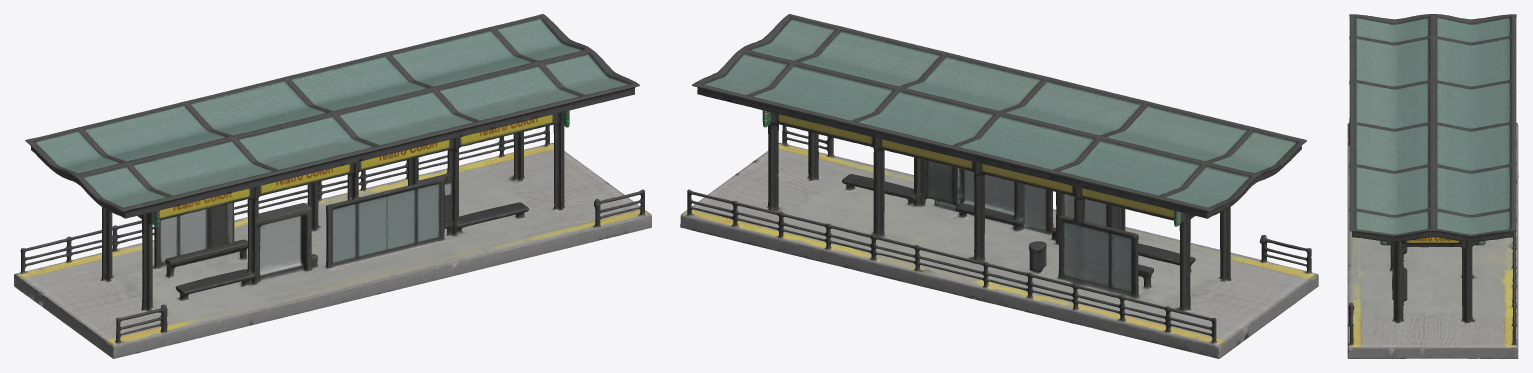
File: metrobus.glb
3 renders of one model, left to right at view 1: azimuth 30°, elevation 25°; view 2: azimuth 150°, elevation 25°; view 3: azimuth 270°, elevation 25°, orthographic. The views are drawn at different scales.
Bounding box in the file's own units: 1.9 × 0.4889 × 0.609.
1 material, 1 textured.
